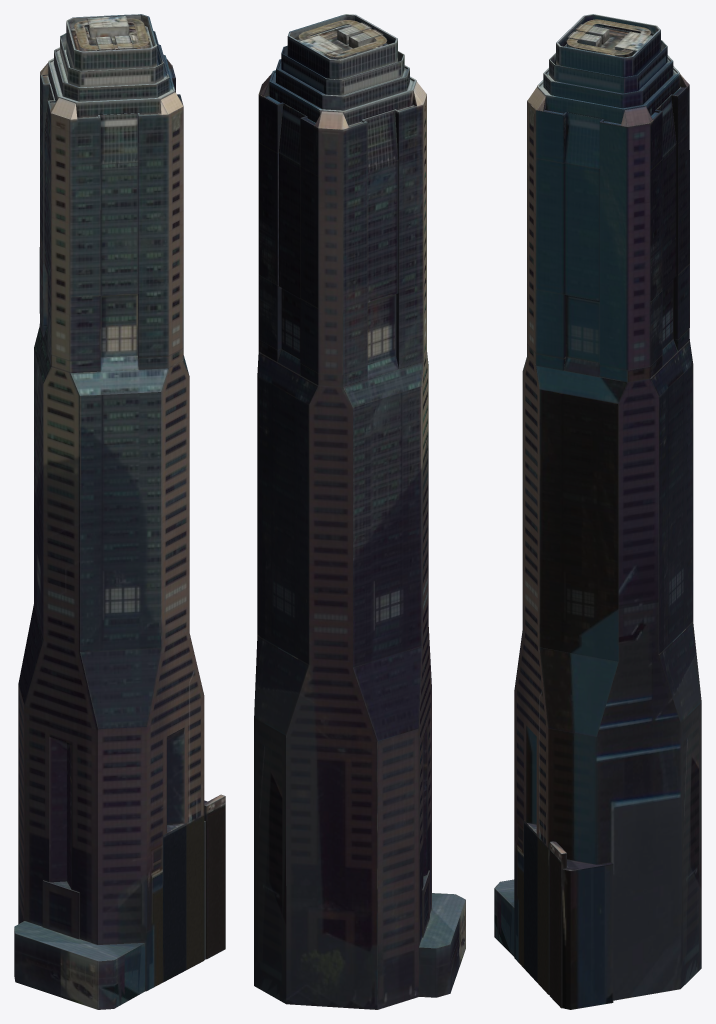
The picture shows the model from 3 angles, left to right: view 1: azimuth 30°, elevation 25°; view 2: azimuth 150°, elevation 25°; view 3: azimuth 270°, elevation 25°; orthographic projection.
Parts seen in each view (by area): view 1: 4_0.glb; view 2: 4_0.glb; view 3: 4_0.glb.
Part boxes in pixels (x1=…): 4_0.glb: x1=14, y1=14, x2=225, y2=1009; 4_0.glb: x1=254, y1=14, x2=465, y2=1009; 4_0.glb: x1=494, y1=14, x2=701, y2=1009.
Size of the model in its own units: 61.65 by 278 by 56.39.
1 material, 1 textured.
